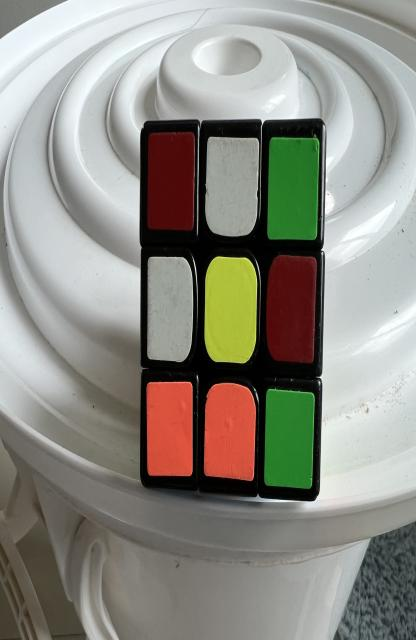Green: (267, 137, 319, 240), (264, 388, 314, 488)
Orange: (204, 383, 256, 482), (146, 382, 193, 477)
Red: (266, 255, 317, 363), (147, 132, 195, 230)
White: (205, 137, 259, 237), (147, 257, 193, 362)
Yellow: (204, 257, 258, 363)
